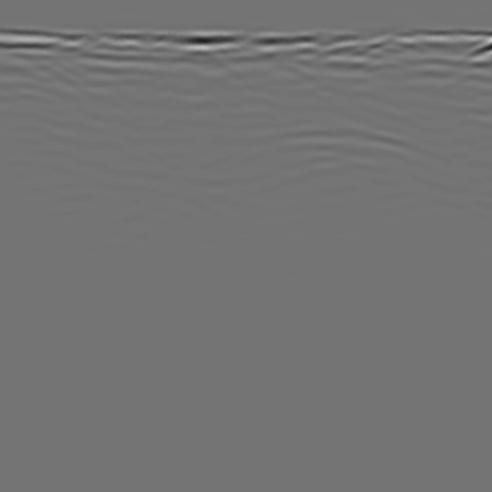hyperbola: (192, 114, 458, 213)
